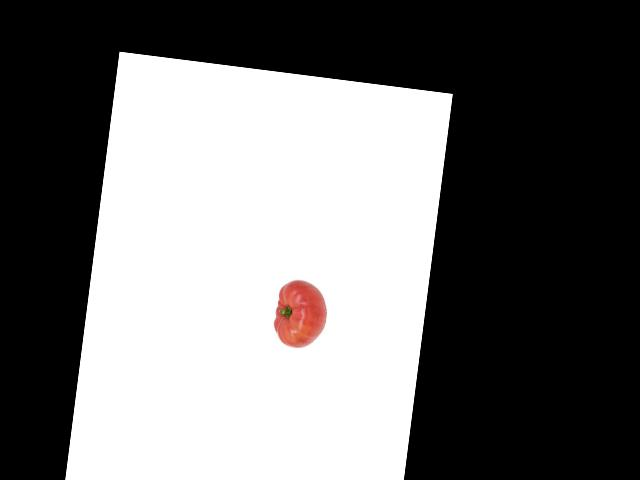tomato: (272, 278, 330, 351)
